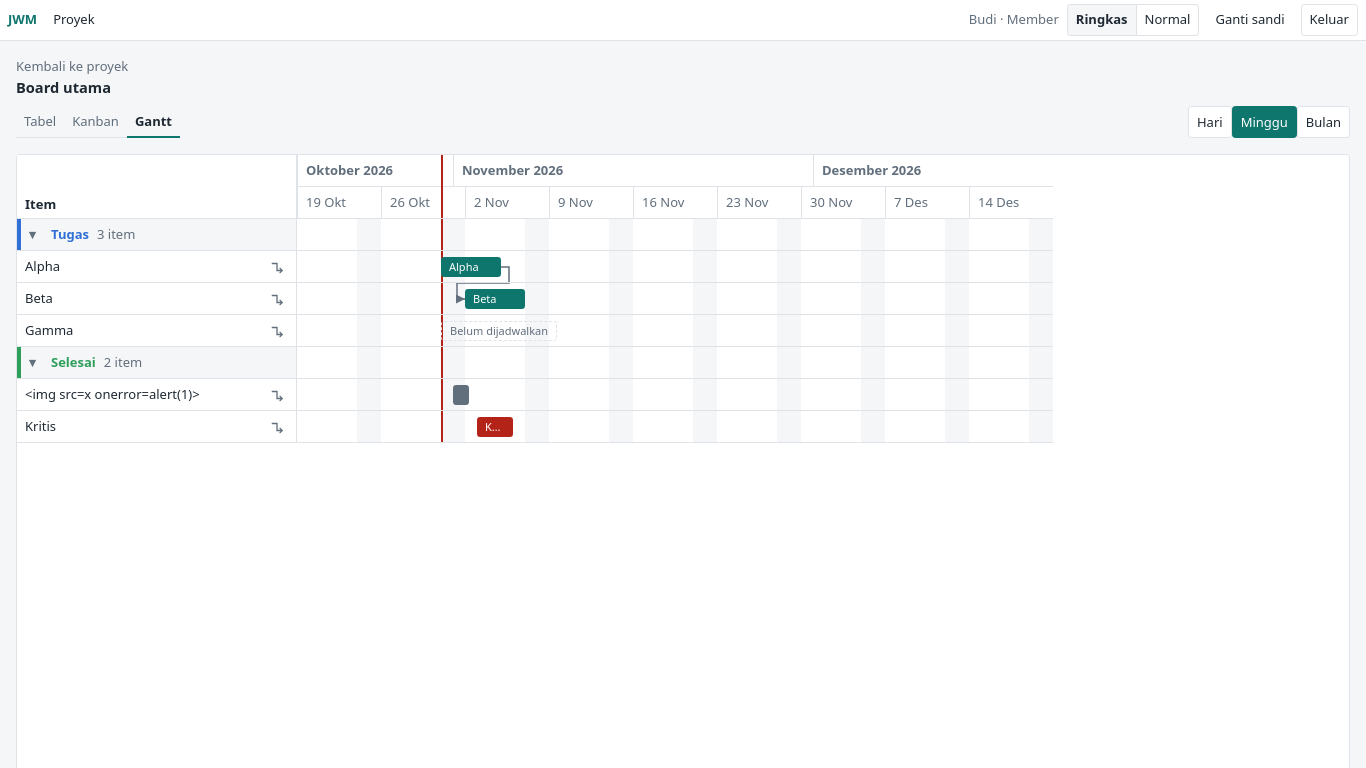
Scenario: Gantt › melipat grup menyembunyikan batangnya
Click the button with aria-label "Grup Tugas, 3 item" at (70, 234), box [17, 219, 296, 250]
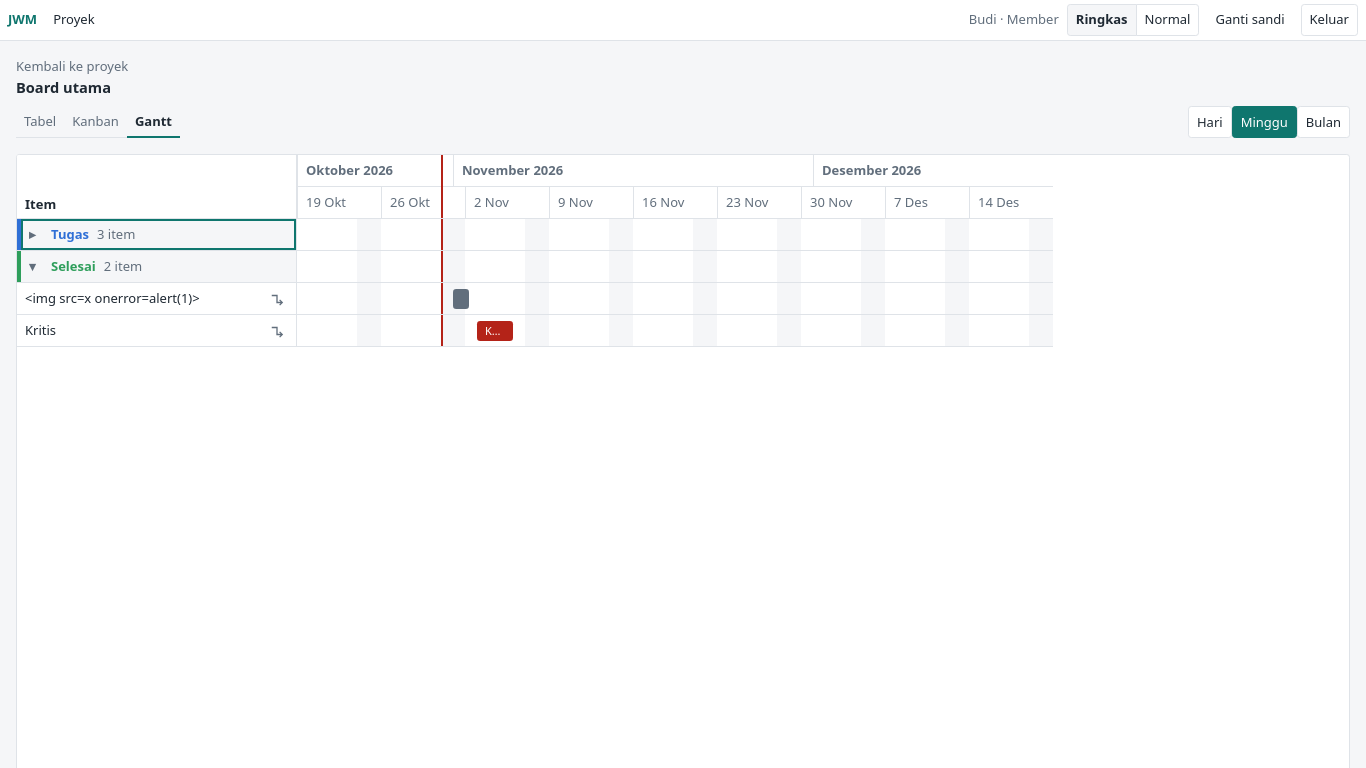
Expected: the button with aria-label "Grup Tugas, 3 item" is collapsed, [17, 219, 296, 250]
